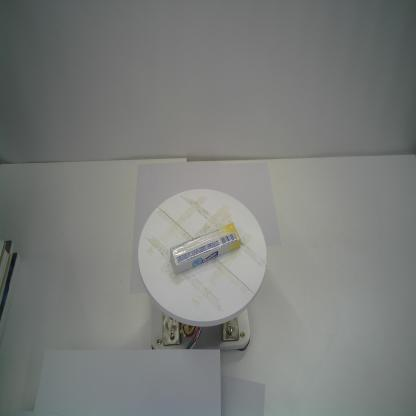Candy: (169, 222, 241, 274)
